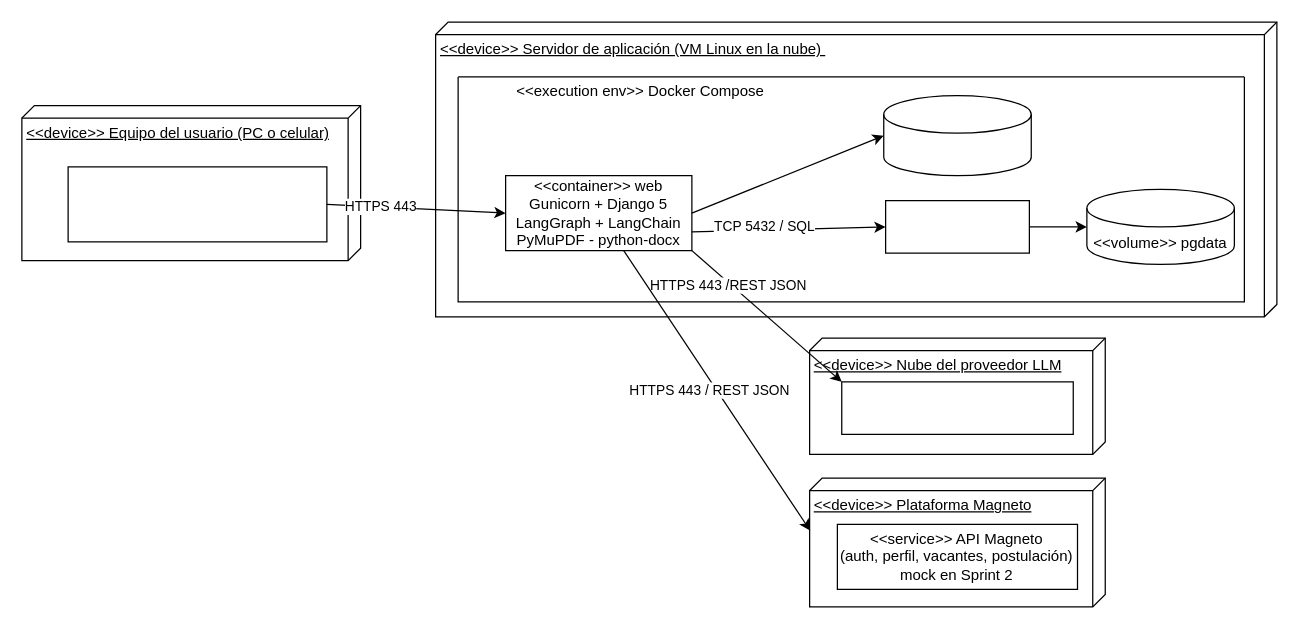
The diagram is 1299 pixels wide and 629 high, and some of its shapes have lost their labels. Each missing label, with the centre of its shape:
"<<container>> db PostgreSQL 16" belongs at [956,226].
"<<execution env>> Navegador web HTML + CSS + JS (Bootstrap)" belongs at [197,204].
"<<service>> API del modelo de lenguaje" belongs at [956,407].
"<<volume>> media/ archivos de HV" belongs at [956,135].
